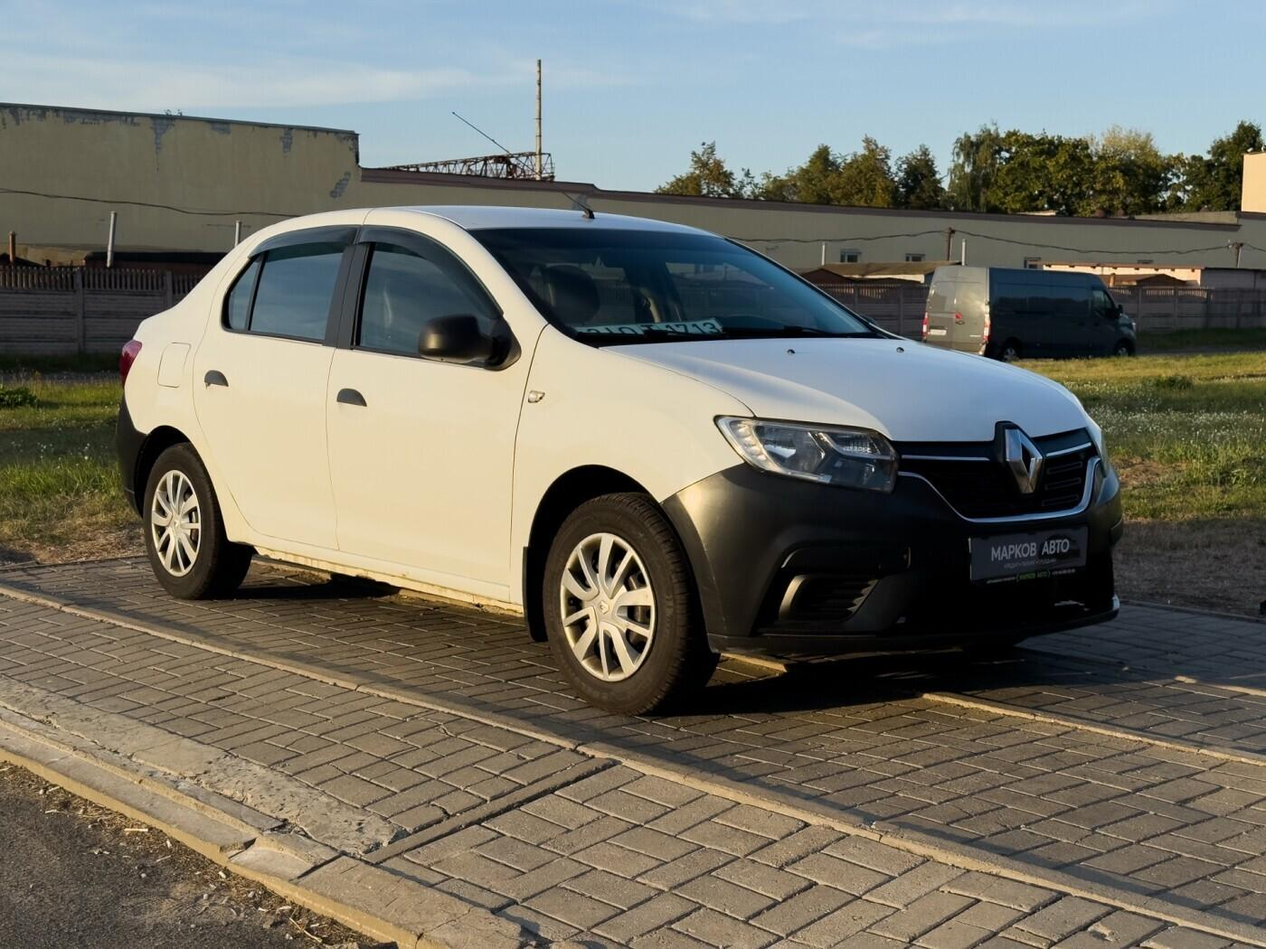Logan_2018: (114, 195, 1137, 718)
